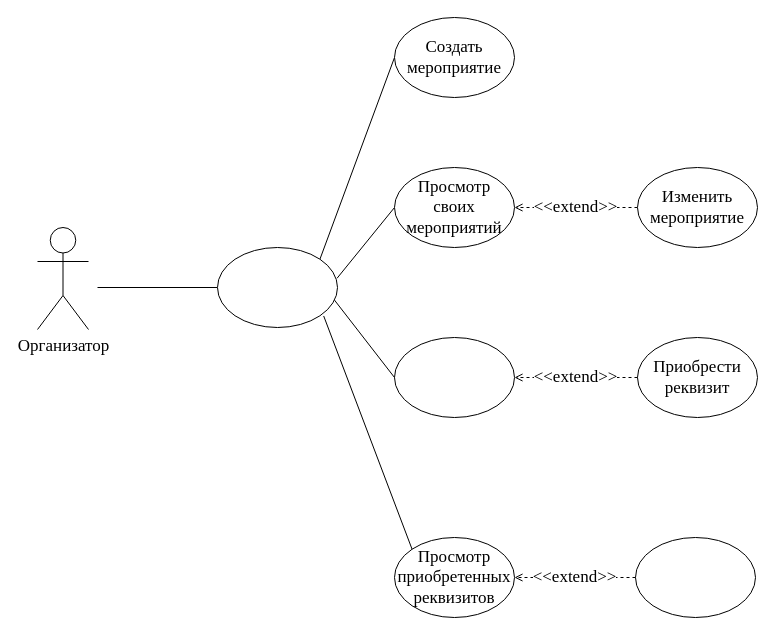
Some shapes in this 775 by 635 pixel diagram are drawn without their labels. Here are the shapes that lost their labels. From the top down, the box of each, then its label:
(216, 246, 338, 328): Авторизация
(394, 336, 514, 418): Просмотр предлагаемых реквизитов
(634, 536, 756, 618): Отмена заказа
